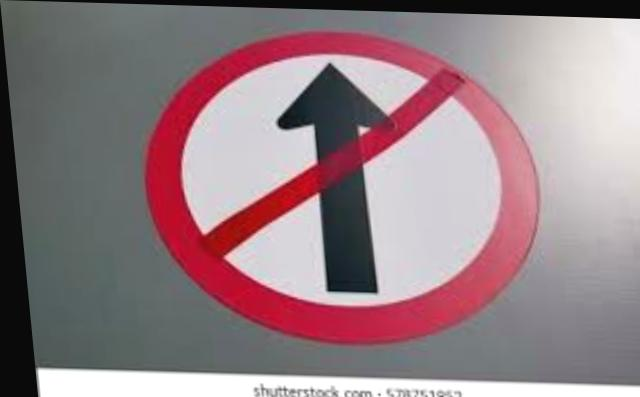not_go_straight: (131, 18, 557, 366)
